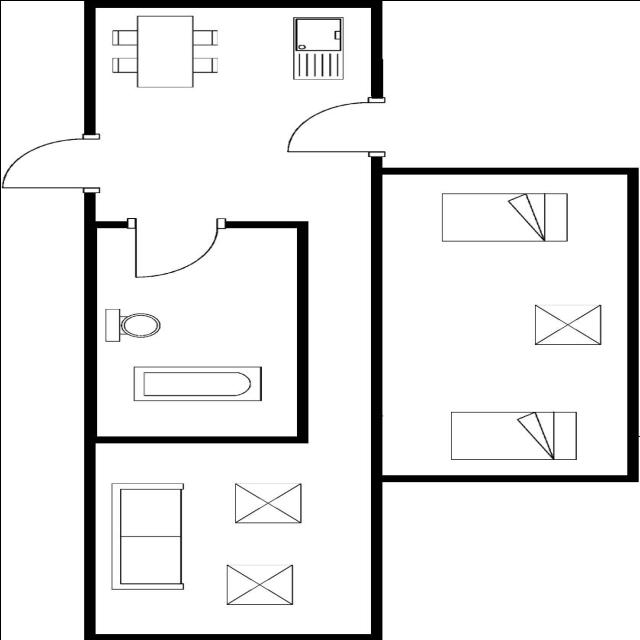bed: (436, 188, 575, 246), (442, 408, 582, 462)
coffee_table: (222, 562, 301, 608), (228, 480, 307, 526), (530, 302, 606, 348)
dining_table: (108, 12, 228, 92)
large_sink: (99, 305, 163, 343)
large_sofa: (105, 480, 188, 592)
sink: (290, 12, 350, 82)
tub: (126, 362, 267, 403)
